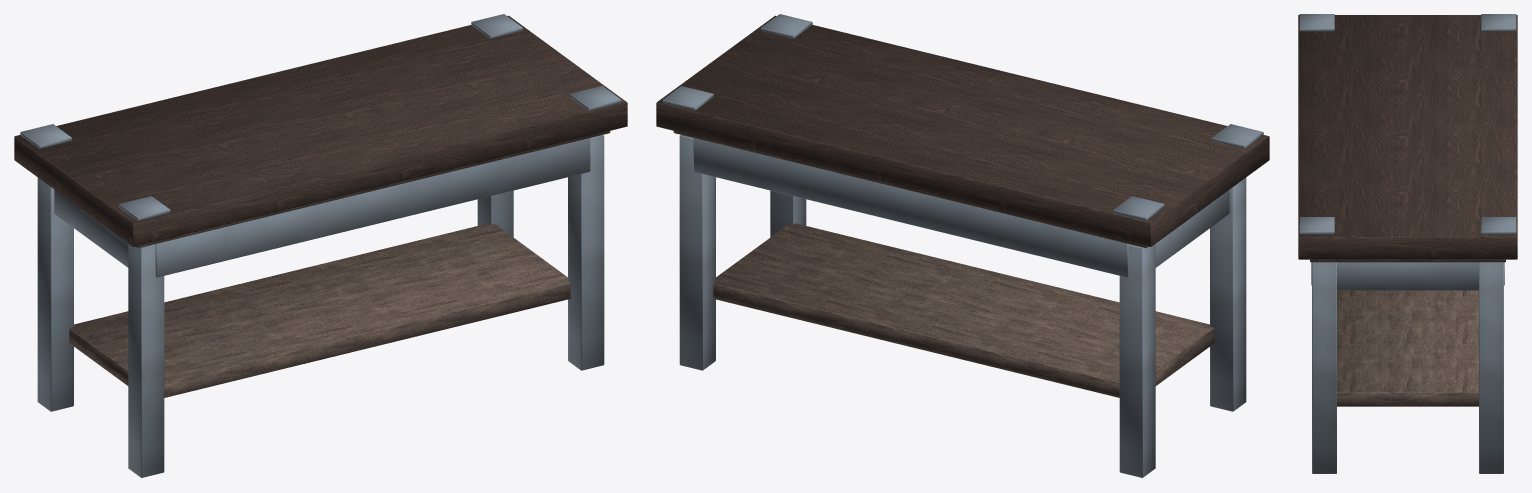
File: asset_065_stockroom_worktable.glb
The picture shows the model from 3 angles, left to right: view 1: azimuth 30°, elevation 25°; view 2: azimuth 150°, elevation 25°; view 3: azimuth 270°, elevation 25°; orthographic projection. The views are drawn at different scales.
Visible parts, largest first — view 1: MESH_OakWorktop, MESH_LowerShelf, MESH_WorktableLegSet, MESH_WorktableApronFrame, MESH_WorktableCornerCapSet, MESH_WorktopDarkEdge; view 2: MESH_OakWorktop, MESH_LowerShelf, MESH_WorktableLegSet, MESH_WorktableApronFrame, MESH_WorktableCornerCapSet, MESH_WorktopDarkEdge; view 3: MESH_OakWorktop, MESH_LowerShelf, MESH_WorktableLegSet, MESH_WorktableApronFrame, MESH_WorktableCornerCapSet, MESH_WorktopDarkEdge.
Part boxes in pixels (x1,y1,x2,y2): MESH_OakWorktop: (14,15,627,246); MESH_LowerShelf: (69,223,570,397); MESH_WorktableLegSet: (37,135,604,477); MESH_WorktableApronFrame: (54,138,590,277); MESH_WorktableCornerCapSet: (20,14,621,220); MESH_WorktopDarkEdge: (136,131,610,248); MESH_OakWorktop: (656,15,1269,246); MESH_LowerShelf: (713,223,1214,397); MESH_WorktableLegSet: (679,135,1246,477); MESH_WorktableApronFrame: (693,138,1229,277); MESH_WorktableCornerCapSet: (662,14,1263,220); MESH_WorktopDarkEdge: (673,131,1147,248); MESH_OakWorktop: (1298,15,1517,259); MESH_LowerShelf: (1337,290,1478,406); MESH_WorktableLegSet: (1312,262,1503,473); MESH_WorktableApronFrame: (1311,262,1504,290); MESH_WorktableCornerCapSet: (1299,14,1516,234); MESH_WorktopDarkEdge: (1310,259,1505,262).
Bounding box in the file's own units: 1.8 × 0.932 × 0.75.
Materials: 5 (4 with a texture image).
